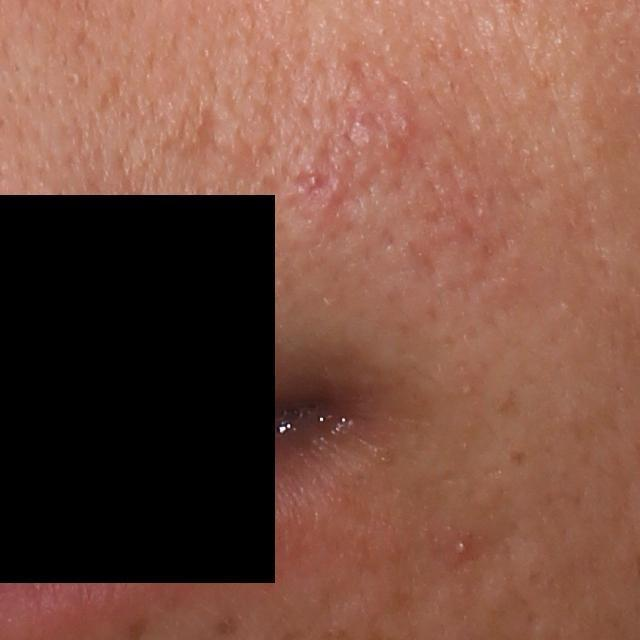atrophic_scar: (182, 107, 227, 166)
melasma: (212, 618, 244, 640)
